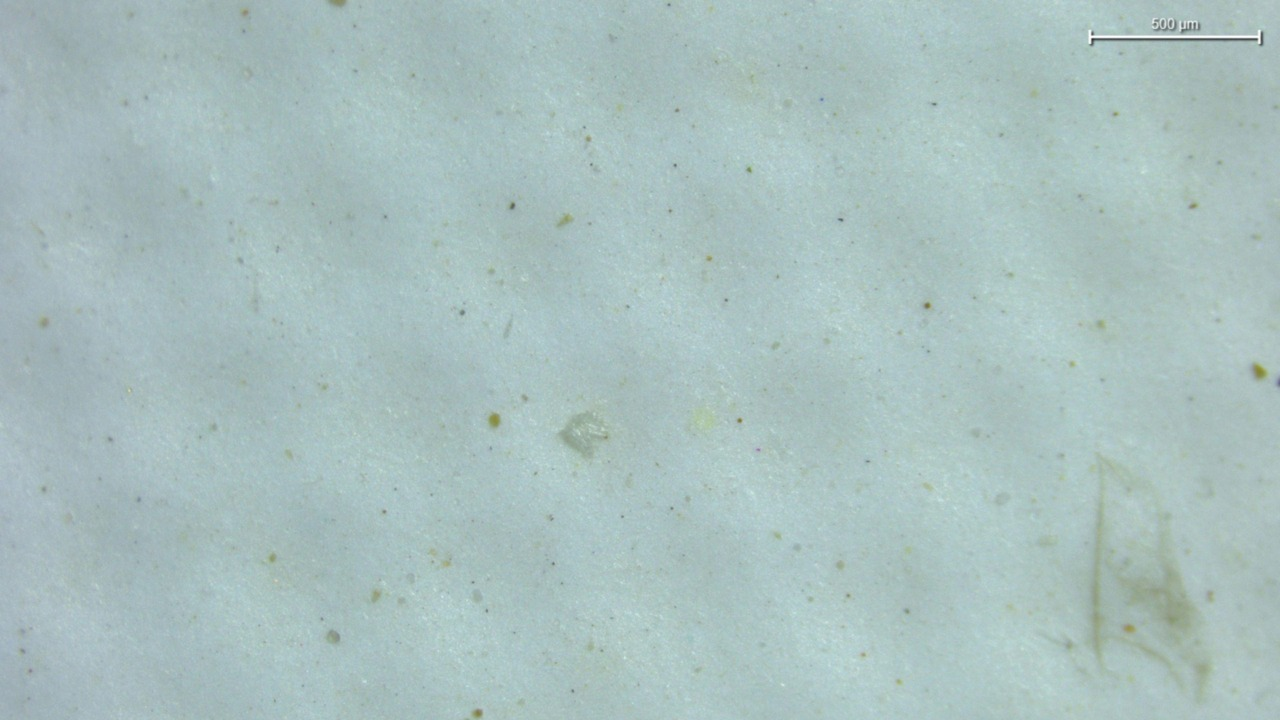microplastic_fragment: (559, 412, 609, 458)
